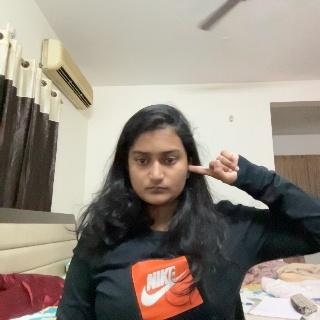Deaf: (188, 147, 257, 191)
Face: (124, 119, 188, 207)
